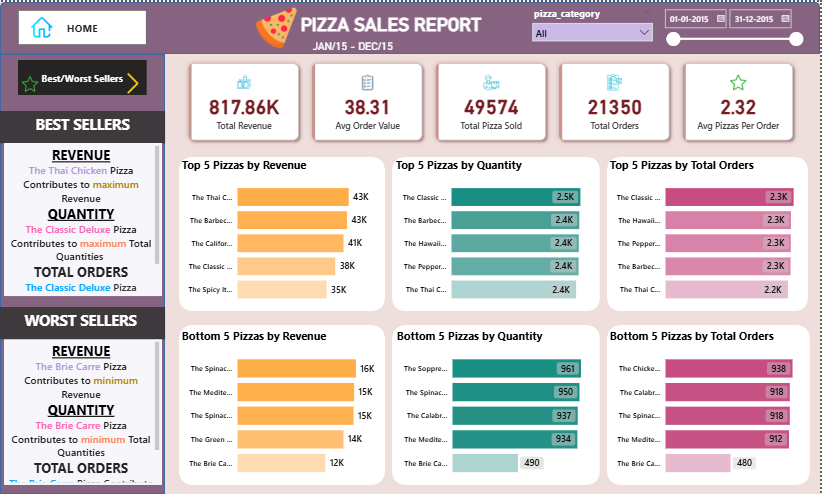

What the dashboard file says about the page in this screenshot:
{"tool":"powerbi","page":{"name":"Best/Worst Sellers","canvas":[1500,900],"ordinal":1},"visuals":[{"type":"cardVisual","fields":{"Data":["pizza_sales.Total Revenue","pizza_sales.Avg Order Value","pizza_sales.Total Pizza Sold","pizza_sales.Total Orders","pizza_sales.Avg Pizzas Per Order"]},"box":[327.4,95.1,1141.5,175.6],"z":0},{"type":"shape","box":[0,95.1,301.8,804.9],"z":1000},{"type":"shape","box":[0,0,1500,95.1],"z":2000},{"type":"textbox","box":[545.1,16.5,380.5,62.2],"z":3000},{"type":"image","box":[444.5,3.7,122.6,87.8],"z":4000},{"type":"textbox","box":[567.1,64,182.9,53],"z":5000},{"type":"shape","box":[327.4,283.5,376.8,281.7],"z":6000},{"type":"shape","box":[327.4,590.9,376.8,292.7],"z":7000},{"type":"shape","box":[717.1,590.9,380.5,292.7],"z":8000},{"type":"shape","box":[1110.4,590.9,371.3,292.7],"z":9000},{"type":"textbox","box":[0,199.4,301.8,58.5],"z":10000},{"type":"textbox","box":[7.3,257.9,289,279.9],"z":11000},{"type":"textbox","box":[7.3,616.5,289,267.1],"z":12000},{"type":"textbox","box":[0,557.9,301.8,58.5],"z":13000},{"type":"slicer","fields":{"Values":["pizza_sales.pizza_category"]},"box":[964,3.7,239.6,91.5],"z":14000},{"type":"slicer","fields":{"Values":["pizza_sales.order_date"]},"box":[1203.7,3.7,274.4,87.8],"z":15000},{"type":"shape","box":[717.1,283.5,380.5,281.7],"z":16000},{"type":"shape","box":[1110.4,283.5,367.7,281.7],"z":17000},{"type":"barChart","title":"Top 5 Pizzas by Revenue","fields":{"Category":["pizza_sales.pizza_name"],"Y":["pizza_sales.Total Revenue"]},"box":[327.4,283.5,376.8,281.7],"z":18000},{"type":"barChart","title":"Bottom 5 Pizzas by Revenue","fields":{"Category":["pizza_sales.pizza_name"],"Y":["pizza_sales.Total Revenue"]},"box":[327.4,596.3,376.8,287.2],"z":19000},{"type":"barChart","title":"Top 5 Pizzas by Quantity","fields":{"Category":["pizza_sales.pizza_name"],"Y":["pizza_sales.Total Pizza Sold"]},"box":[718.9,283.5,376.8,281.7],"z":20000},{"type":"barChart","title":"Bottom 5 Pizzas by Quantity","fields":{"Category":["pizza_sales.pizza_name"],"Y":["pizza_sales.Total Pizza Sold"]},"box":[720.7,596.3,376.8,287.2],"z":21000},{"type":"barChart","title":"Top 5 Pizzas by Total Orders","fields":{"Category":["pizza_sales.pizza_name"],"Y":["pizza_sales.Total Orders"]},"box":[1110.4,283.5,376.8,281.7],"z":22000},{"type":"barChart","title":"Bottom 5 Pizzas by Total Orders","fields":{"Category":["pizza_sales.pizza_name"],"Y":["pizza_sales.Total Orders"]},"box":[1110.4,596.3,376.8,287.2],"z":23000},{"type":"pageNavigator","box":[32.9,14.6,236,64],"z":24000},{"type":"pageNavigator","box":[32.9,117.1,236,64],"z":25000},{"type":"image","box":[32.9,22,87.8,49.4],"z":26000},{"type":"image","box":[32.9,129.9,43.9,40.2],"z":27000},{"type":"image","box":[217.7,124.4,51.2,49.4],"z":28000}]}

Visuals, with their boxes in screenshot pixels (x1, y1, x2, y2), scaled from the page's 1500x900 canvas onto the 823x494 screenshot:
cardVisual - pizza_sales.Total Revenue x pizza_sales.Avg Order Value: <bbox>180, 52, 806, 149</bbox>
shape: <bbox>0, 52, 166, 493</bbox>
shape: <bbox>0, 0, 822, 52</bbox>
textbox: <bbox>299, 9, 508, 43</bbox>
image: <bbox>244, 2, 311, 50</bbox>
textbox: <bbox>311, 35, 412, 64</bbox>
shape: <bbox>180, 156, 386, 310</bbox>
shape: <bbox>180, 324, 386, 485</bbox>
shape: <bbox>393, 324, 602, 485</bbox>
shape: <bbox>609, 324, 813, 485</bbox>
textbox: <bbox>0, 109, 166, 142</bbox>
textbox: <bbox>4, 142, 163, 295</bbox>
textbox: <bbox>4, 338, 163, 485</bbox>
textbox: <bbox>0, 306, 166, 338</bbox>
slicer - pizza_sales.pizza_category: <bbox>529, 2, 660, 52</bbox>
slicer - pizza_sales.order_date: <bbox>660, 2, 811, 50</bbox>
shape: <bbox>393, 156, 602, 310</bbox>
shape: <bbox>609, 156, 811, 310</bbox>
"Top 5 Pizzas by Revenue" barChart: <bbox>180, 156, 386, 310</bbox>
"Bottom 5 Pizzas by Revenue" barChart: <bbox>180, 327, 386, 485</bbox>
"Top 5 Pizzas by Quantity" barChart: <bbox>394, 156, 601, 310</bbox>
"Bottom 5 Pizzas by Quantity" barChart: <bbox>395, 327, 602, 485</bbox>
"Top 5 Pizzas by Total Orders" barChart: <bbox>609, 156, 816, 310</bbox>
"Bottom 5 Pizzas by Total Orders" barChart: <bbox>609, 327, 816, 485</bbox>
pageNavigator: <bbox>18, 8, 148, 43</bbox>
pageNavigator: <bbox>18, 64, 148, 99</bbox>
image: <bbox>18, 12, 66, 39</bbox>
image: <bbox>18, 71, 42, 93</bbox>
image: <bbox>119, 68, 148, 95</bbox>
